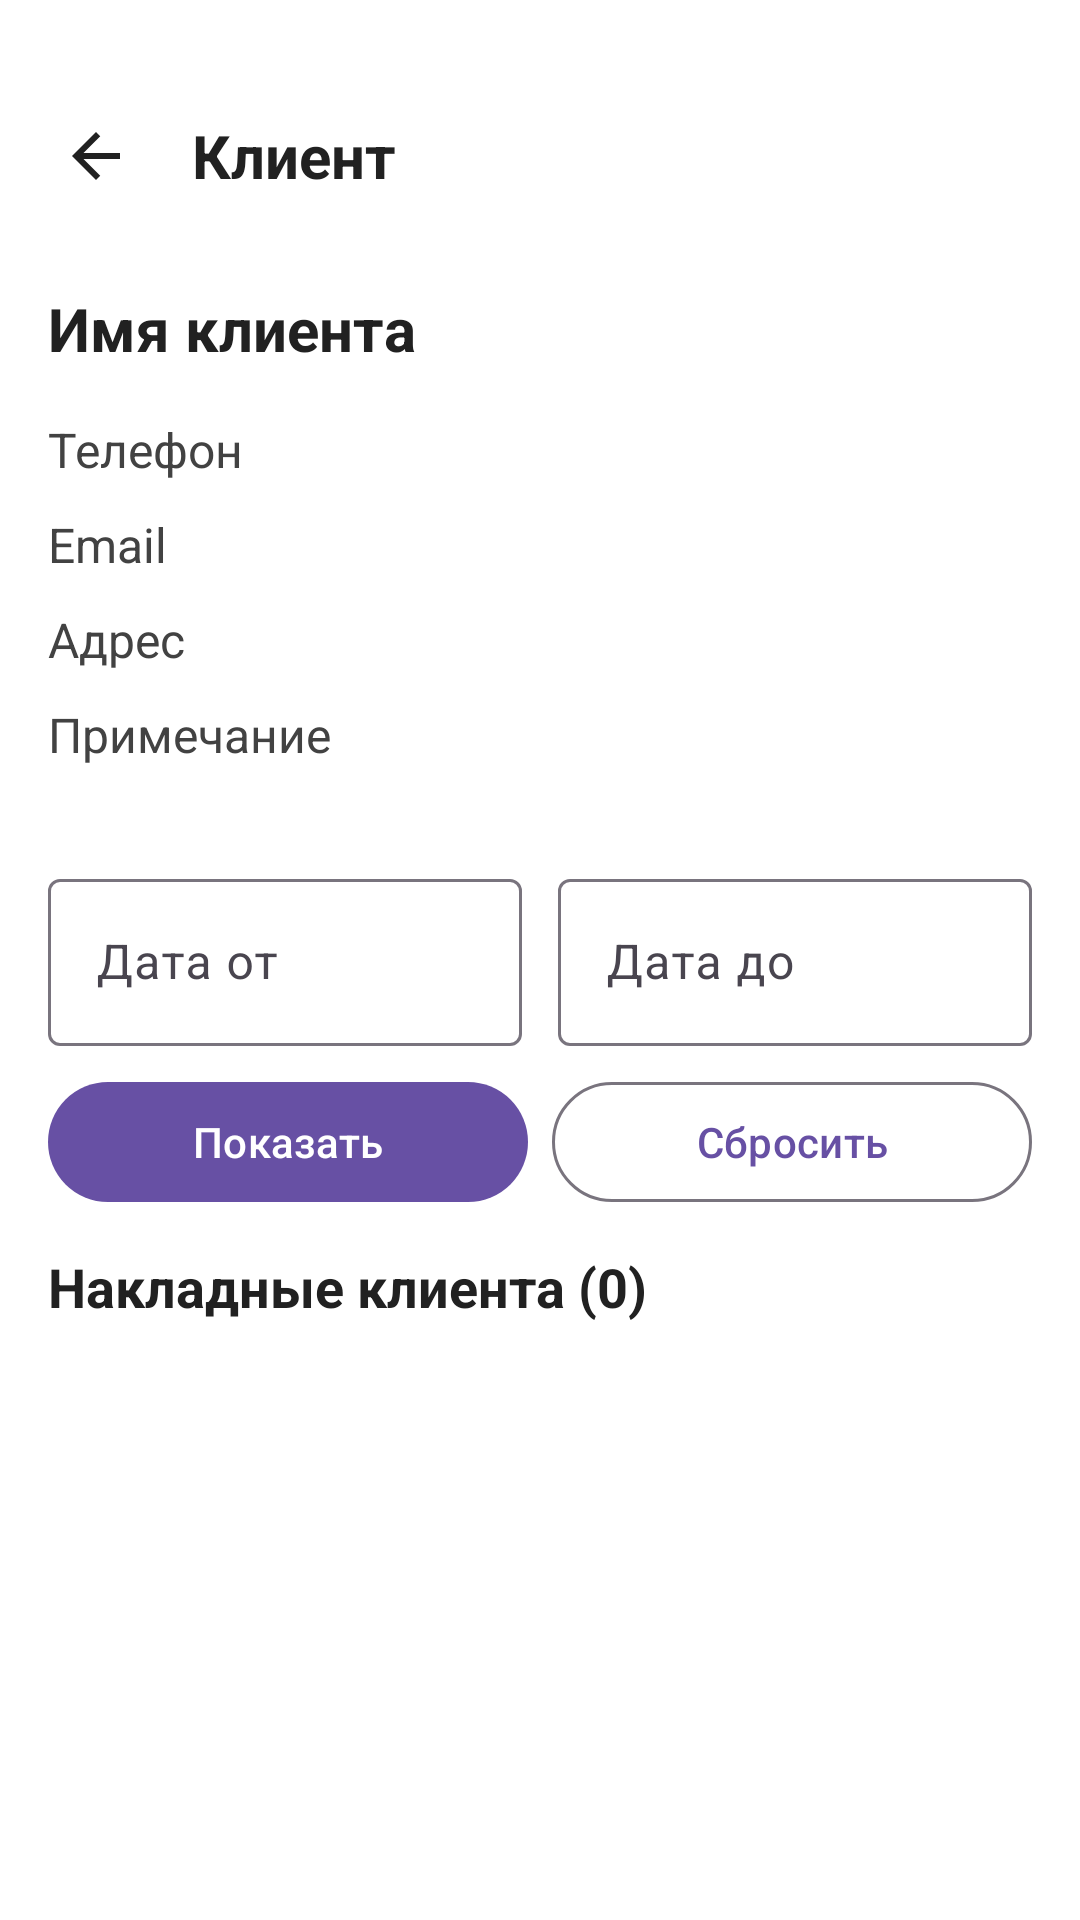

Icons on this 1080 × 1920 Android screen, each with its box as (x1, y1, x2, y2):
Назад: (72, 132, 120, 180)
